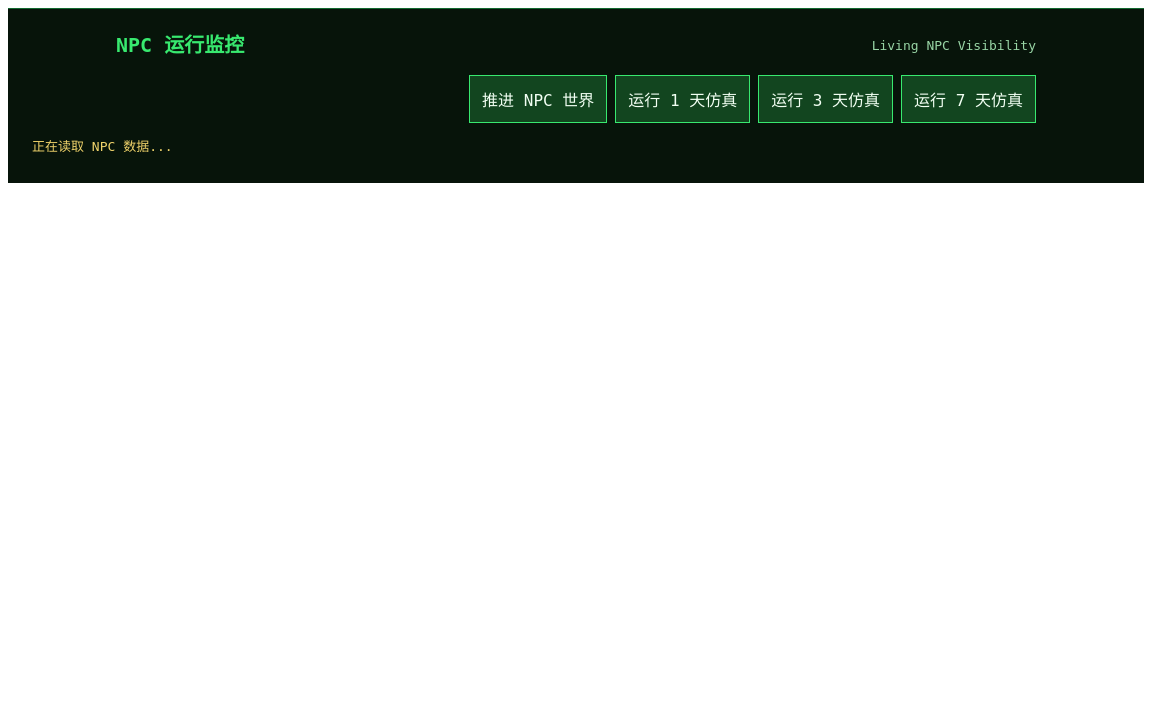
Test: NpcAdmin › settles the NPC world and renders simulation health
Click the button "推进 NPC 世界". click: click(538, 99)
box: [469,75,607,123]
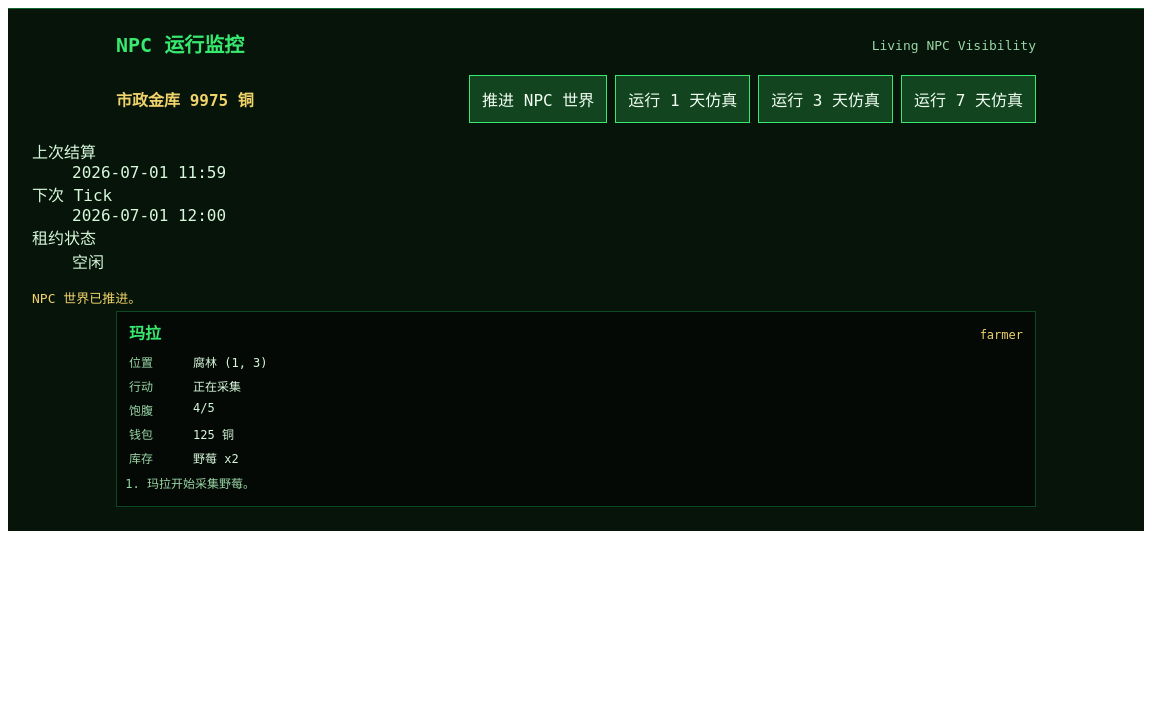
Click the button "运行 3 天仿真". click: click(826, 99)
box: [758,75,893,123]
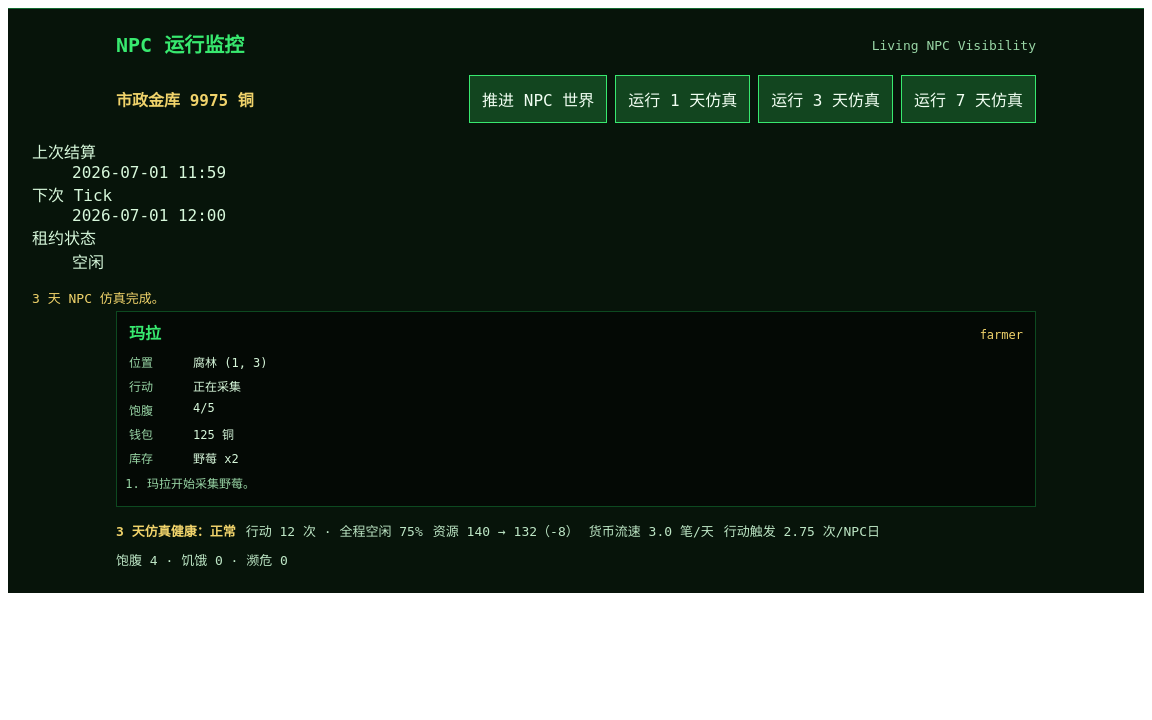
Expected: the text "3 天仿真健康：正常" is shown, [116,521,236,540]
Expected: the text "行动 12 次 · 全程空闲 75%" is shown, [246,521,423,540]
Expected: the text "资源 140 → 132（-8）" is shown, [433,521,579,540]
